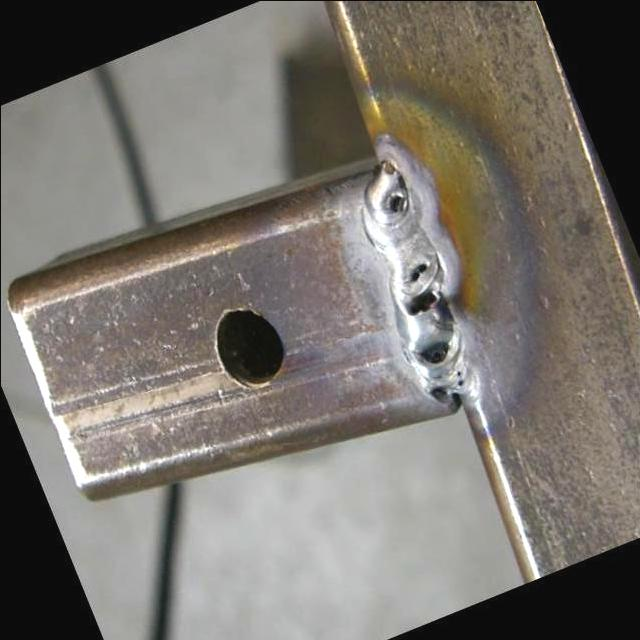defect: (405, 288, 442, 320), (417, 336, 453, 368), (405, 257, 430, 284), (387, 190, 408, 214), (429, 380, 451, 400), (453, 366, 465, 388)
